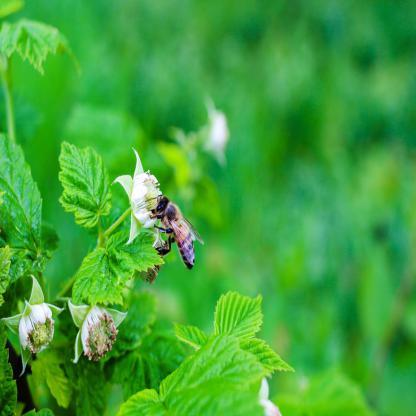Raspberry leaf: (122, 334, 266, 416), (54, 138, 114, 228), (214, 290, 264, 348)
